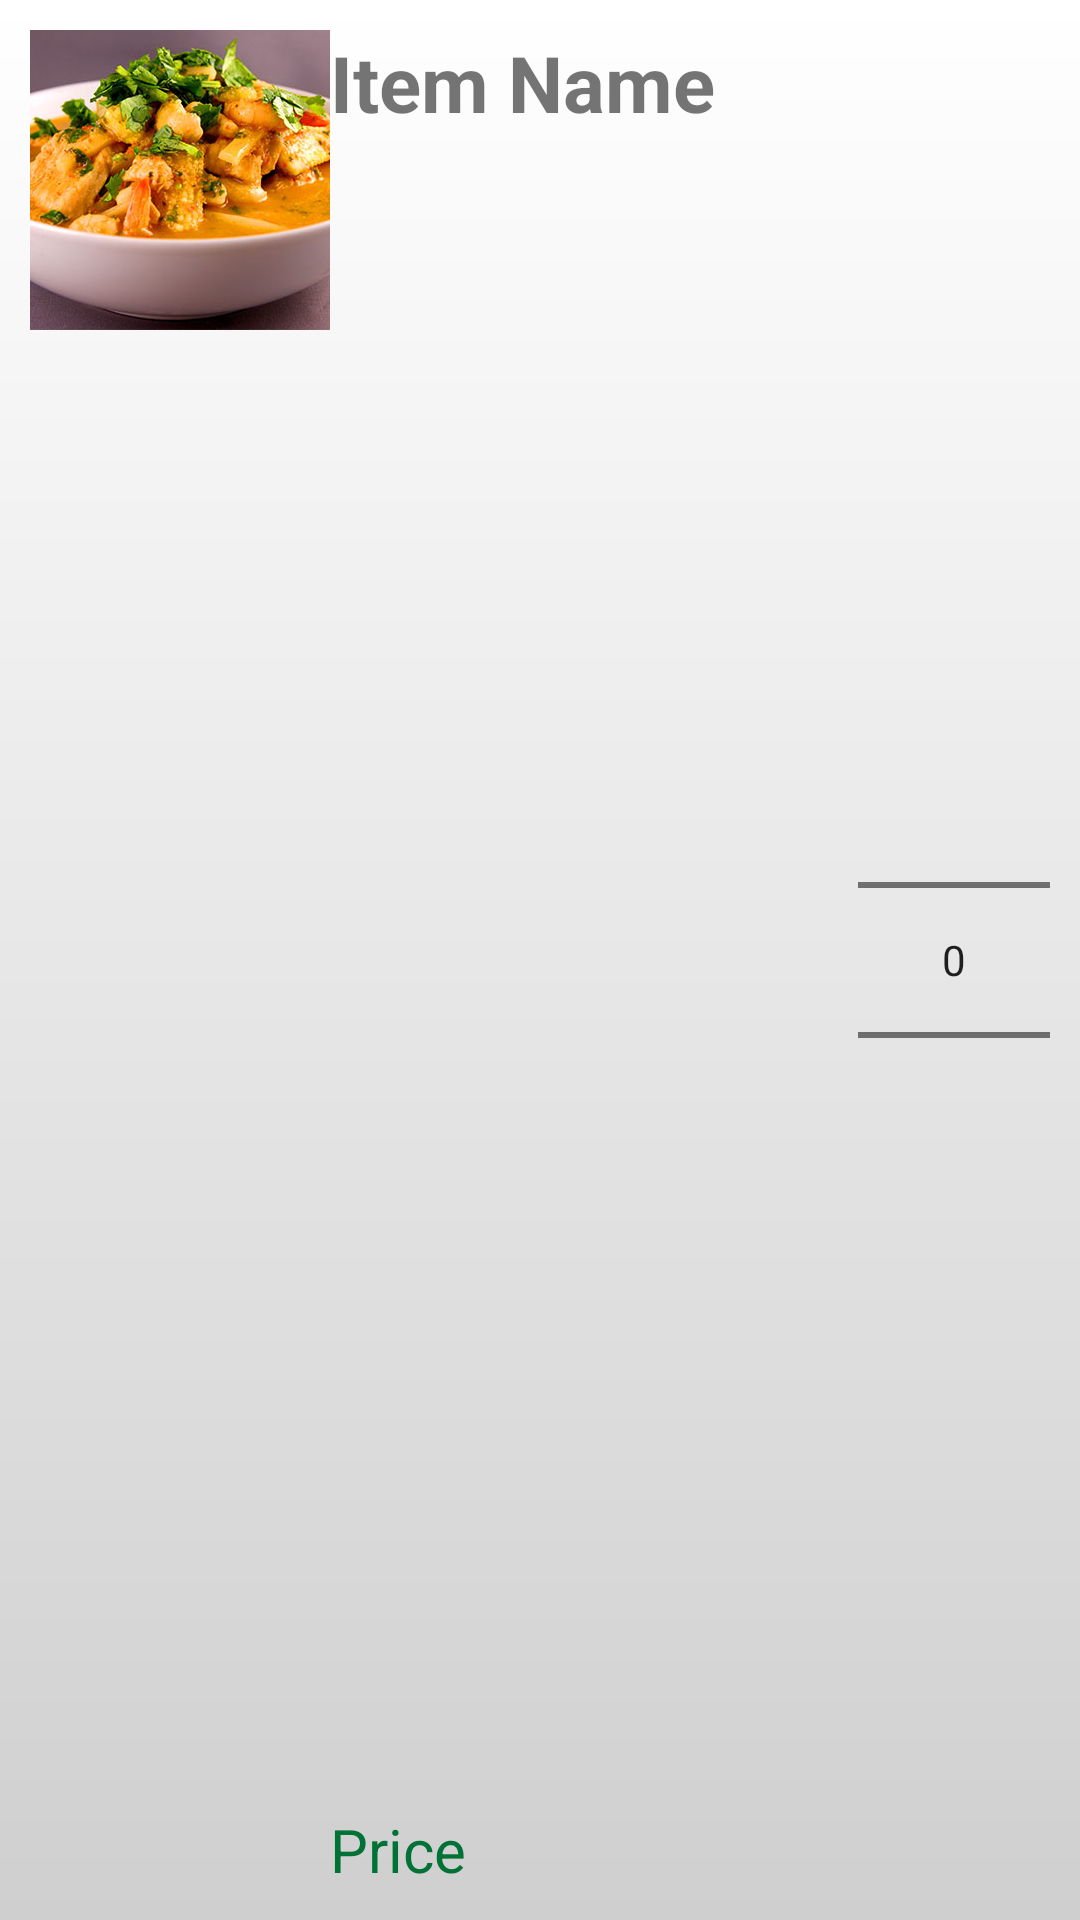

Where icons sit on this 1080px x 1920px app screen, as (x1, y1, x2, y2):
curry: (30, 30, 330, 330)
